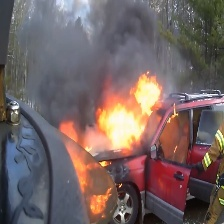fire: (96, 70, 162, 152)
